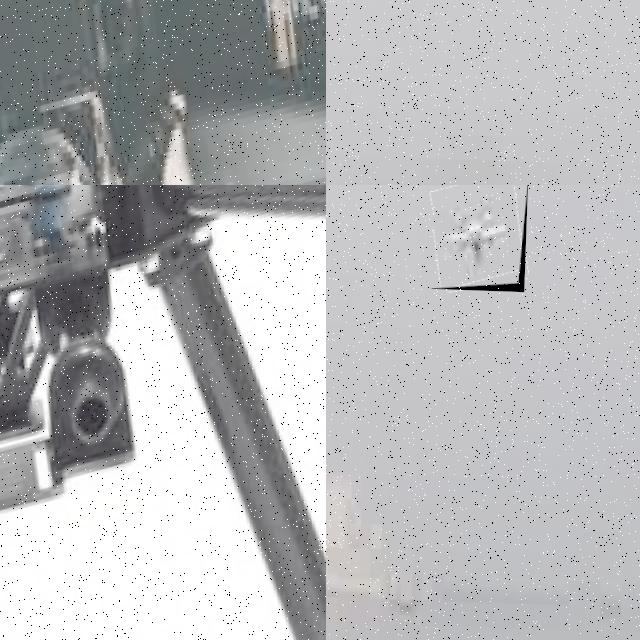0: (430, 185, 527, 291)
drone: (0, 185, 326, 640), (0, 0, 326, 185)
